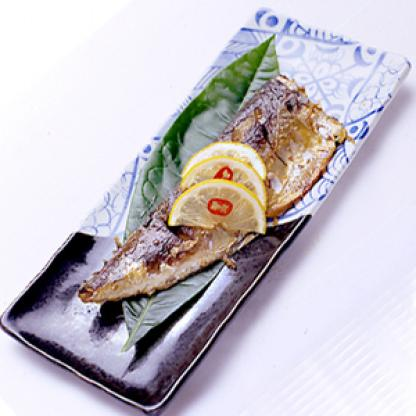Peixe: (65, 66, 343, 332)
